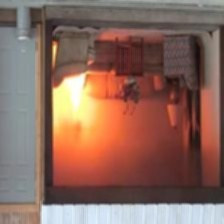fire: (45, 74, 93, 130)
